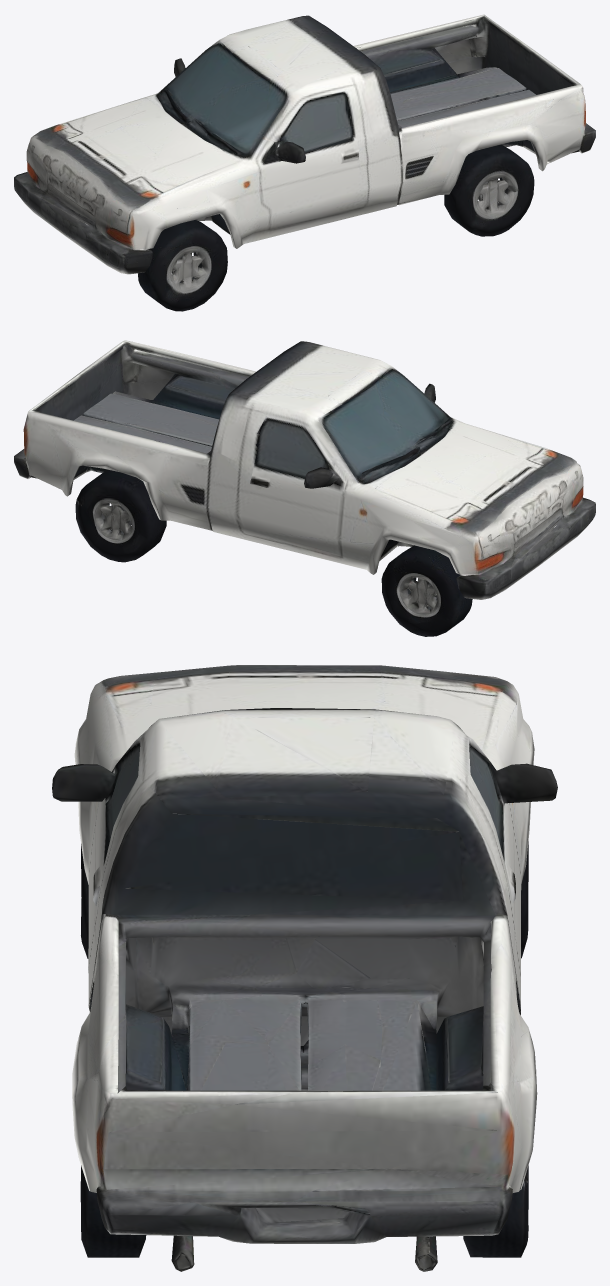
Rendered from pickup.glb.
3 views of the same model, one above another, from view 1: azimuth 30°, elevation 25°; view 2: azimuth 150°, elevation 25°; view 3: azimuth 270°, elevation 25° (orthographic). The views are drawn at different scales.
Size of the model in its own units: 1.9 by 0.6737 by 0.8565.
1 material, 1 textured.
